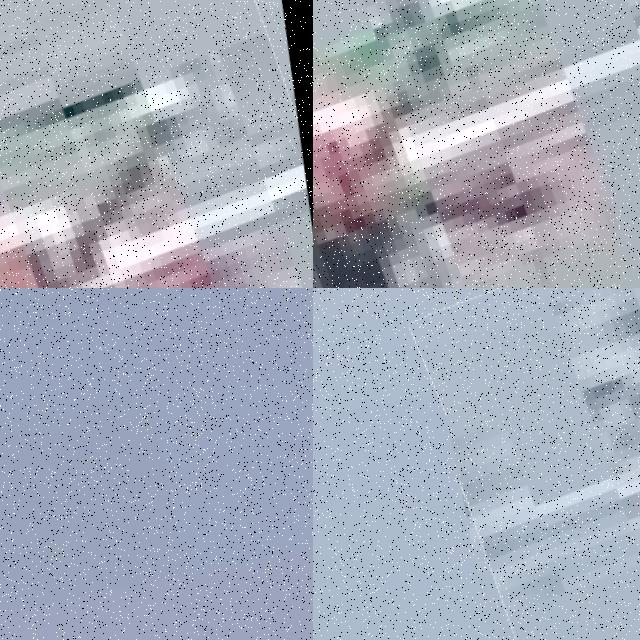drone: (313, 0, 640, 288), (0, 0, 313, 288), (414, 288, 640, 640)
